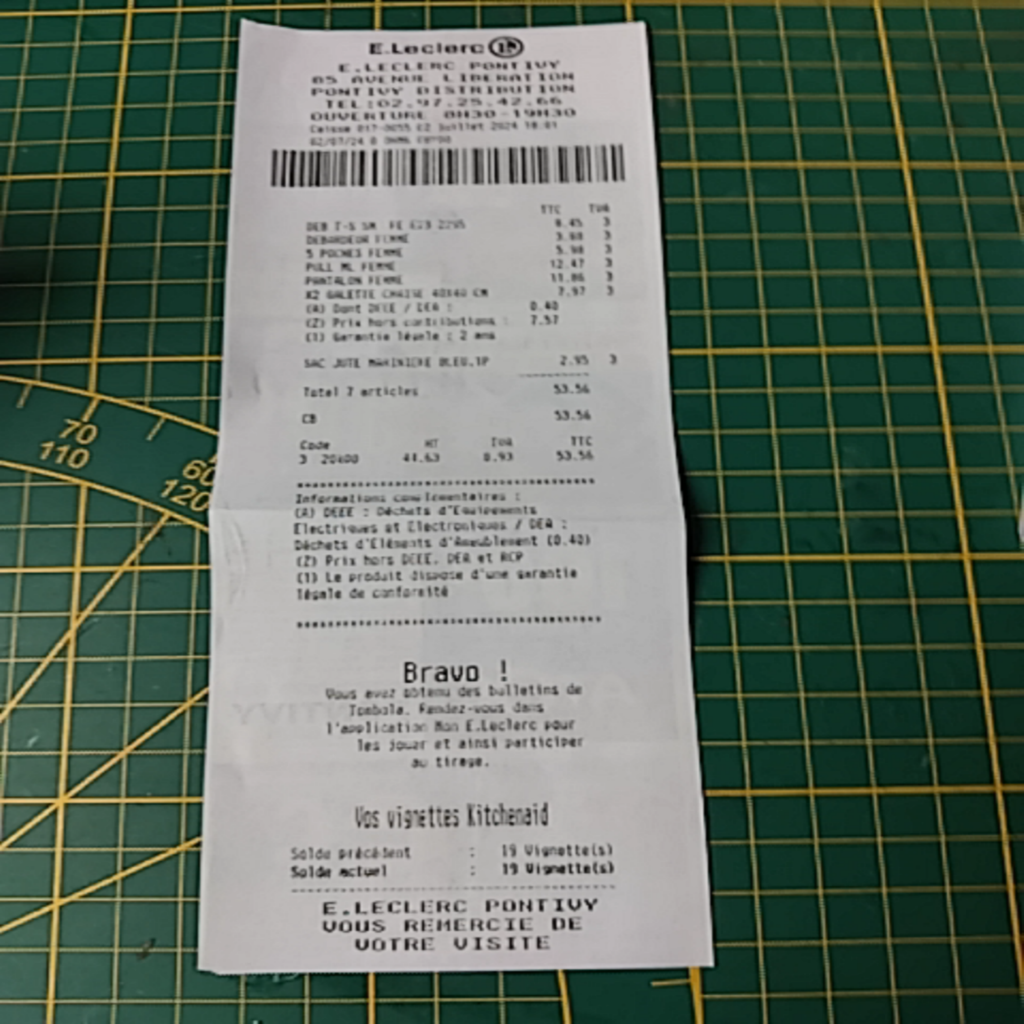recipt: (197, 15, 713, 974)
